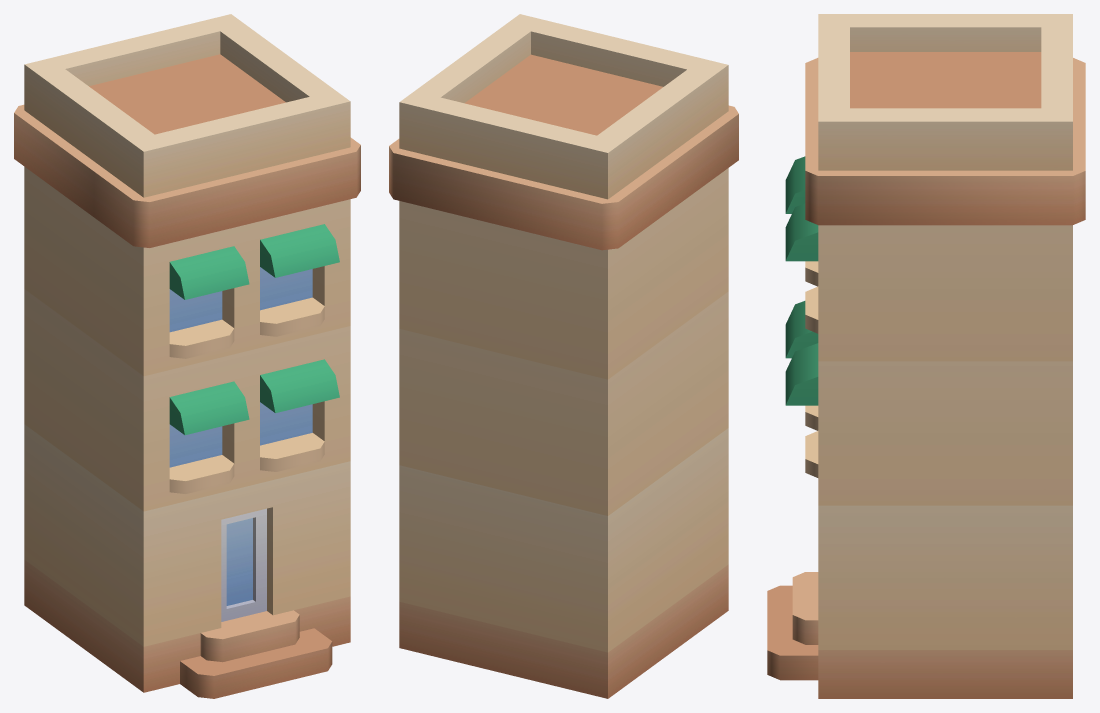
Rendered from kenney-modular-buildings-building-sample-tower-a.glb.
3 views of the same model, side by side, from view 1: azimuth 30°, elevation 25°; view 2: azimuth 150°, elevation 25°; view 3: azimuth 270°, elevation 25° (orthographic). The views are drawn at different scales.
Visible parts, largest first — view 1: building-sample-tower-a; view 2: building-sample-tower-a; view 3: building-sample-tower-a.
Boxes of the visible parts, left/top/right/bottom form: building-sample-tower-a: left=14, top=14, right=360, bottom=698; building-sample-tower-a: left=389, top=14, right=738, bottom=698; building-sample-tower-a: left=767, top=14, right=1085, bottom=698.
Size of the model in its own units: 1.1 by 2.5 by 1.25.
Materials: 1 (1 with a texture image).
